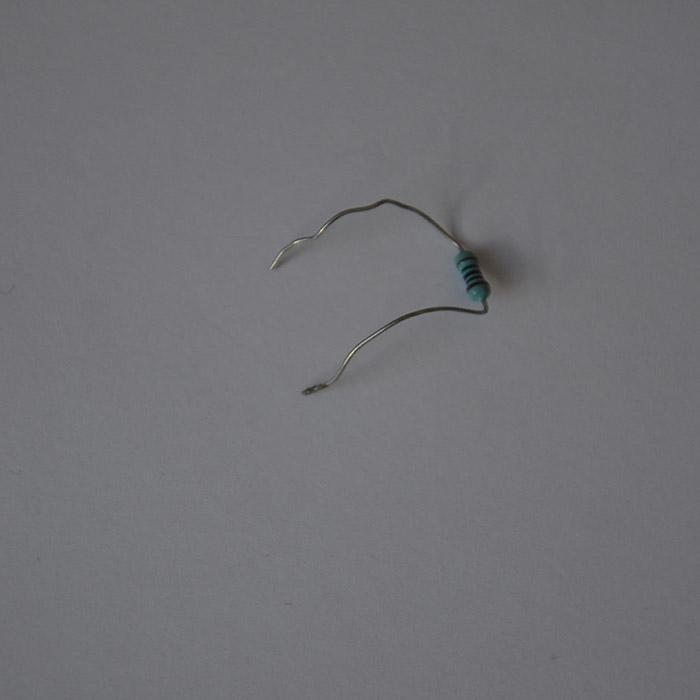resistor: (453, 248, 490, 302)
